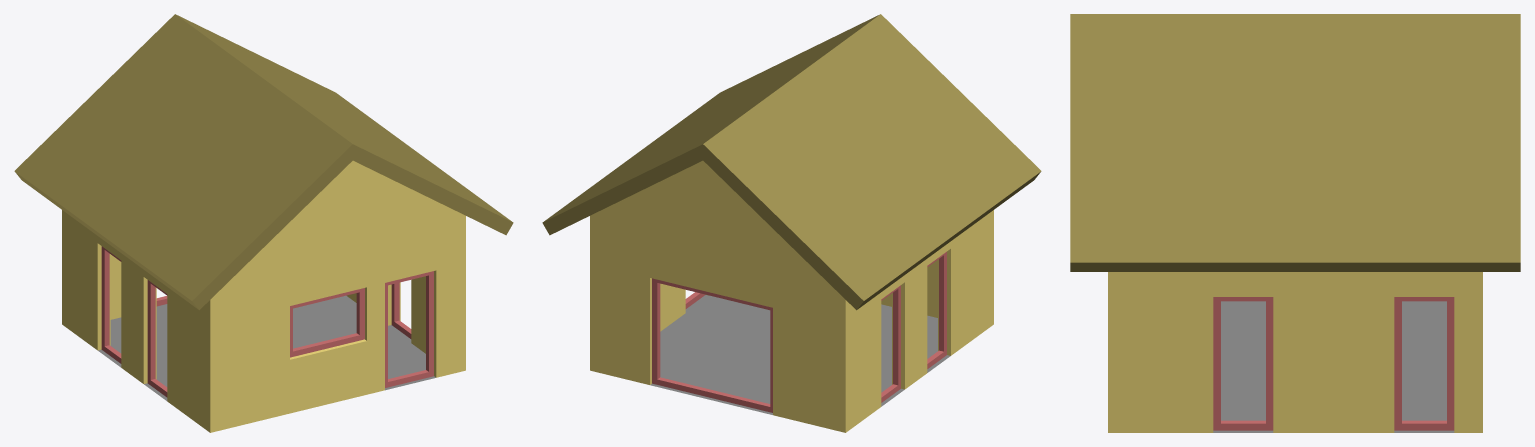
The model's file is result.glb.
3 views of the same model, side by side, from view 1: azimuth 30°, elevation 25°; view 2: azimuth 150°, elevation 25°; view 3: azimuth 270°, elevation 25° (orthographic). The views are drawn at different scales.
Visible parts, largest first — view 1: 1128a809-93e2-43a7-ab47-41847ced7b79__undefined (×2), 30ba176d-0915-481e-a231-8a7b0a356213__undefined, a1683e8a-c422-4a93-a112-34554c38a4fd__Plane_8, 845690a2-9caf-4840-8c32-1bb6a388bfea__Box, 5d4922e0-89c4-4180-8296-c88a4d4ef1f7__Box_3, 7e628024-3149-45d3-952e-dfe7d7117ef2__Box_12, eeaa3243-2b60-4c92-af9b-8b7107c4e5df__Box_15, 2ed8e063-0ae1-450d-9615-b129dd08cfab__Box_18; view 2: 1128a809-93e2-43a7-ab47-41847ced7b79__undefined (×2), 30ba176d-0915-481e-a231-8a7b0a356213__undefined, a1683e8a-c422-4a93-a112-34554c38a4fd__Plane_8, b8fd4318-33cc-4c4e-b46d-a34114adbfdd__Box_9, 7e628024-3149-45d3-952e-dfe7d7117ef2__Box_12, eeaa3243-2b60-4c92-af9b-8b7107c4e5df__Box_15; view 3: 1128a809-93e2-43a7-ab47-41847ced7b79__undefined, 30ba176d-0915-481e-a231-8a7b0a356213__undefined, a1683e8a-c422-4a93-a112-34554c38a4fd__Plane_8, 2ed8e063-0ae1-450d-9615-b129dd08cfab__Box_18, 75c6d474-8905-437c-bb21-63fd4062d54a__Box_21.
Part boxes in pixels (x1,y1,x2,y2): 1128a809-93e2-43a7-ab47-41847ced7b79__undefined (×2): [14, 14, 513, 310]; 30ba176d-0915-481e-a231-8a7b0a356213__undefined: [62, 160, 465, 432]; a1683e8a-c422-4a93-a112-34554c38a4fd__Plane_8: [98, 295, 435, 400]; 845690a2-9caf-4840-8c32-1bb6a388bfea__Box: [385, 271, 433, 387]; 5d4922e0-89c4-4180-8296-c88a4d4ef1f7__Box_3: [290, 288, 364, 357]; 7e628024-3149-45d3-952e-dfe7d7117ef2__Box_12: [147, 280, 167, 397]; eeaa3243-2b60-4c92-af9b-8b7107c4e5df__Box_15: [101, 246, 121, 363]; 2ed8e063-0ae1-450d-9615-b129dd08cfab__Box_18: [391, 282, 411, 338]; 1128a809-93e2-43a7-ab47-41847ced7b79__undefined (×2): [542, 14, 1041, 310]; 30ba176d-0915-481e-a231-8a7b0a356213__undefined: [590, 160, 993, 432]; a1683e8a-c422-4a93-a112-34554c38a4fd__Plane_8: [650, 295, 950, 414]; b8fd4318-33cc-4c4e-b46d-a34114adbfdd__Box_9: [652, 278, 772, 412]; 7e628024-3149-45d3-952e-dfe7d7117ef2__Box_12: [927, 251, 946, 368]; eeaa3243-2b60-4c92-af9b-8b7107c4e5df__Box_15: [881, 285, 900, 402]; 1128a809-93e2-43a7-ab47-41847ced7b79__undefined: [1070, 14, 1520, 271]; 30ba176d-0915-481e-a231-8a7b0a356213__undefined: [1108, 272, 1482, 432]; a1683e8a-c422-4a93-a112-34554c38a4fd__Plane_8: [1213, 301, 1454, 432]; 2ed8e063-0ae1-450d-9615-b129dd08cfab__Box_18: [1213, 297, 1273, 430]; 75c6d474-8905-437c-bb21-63fd4062d54a__Box_21: [1394, 297, 1454, 430].
Size of the model in its own units: 627 by 500 by 600.
